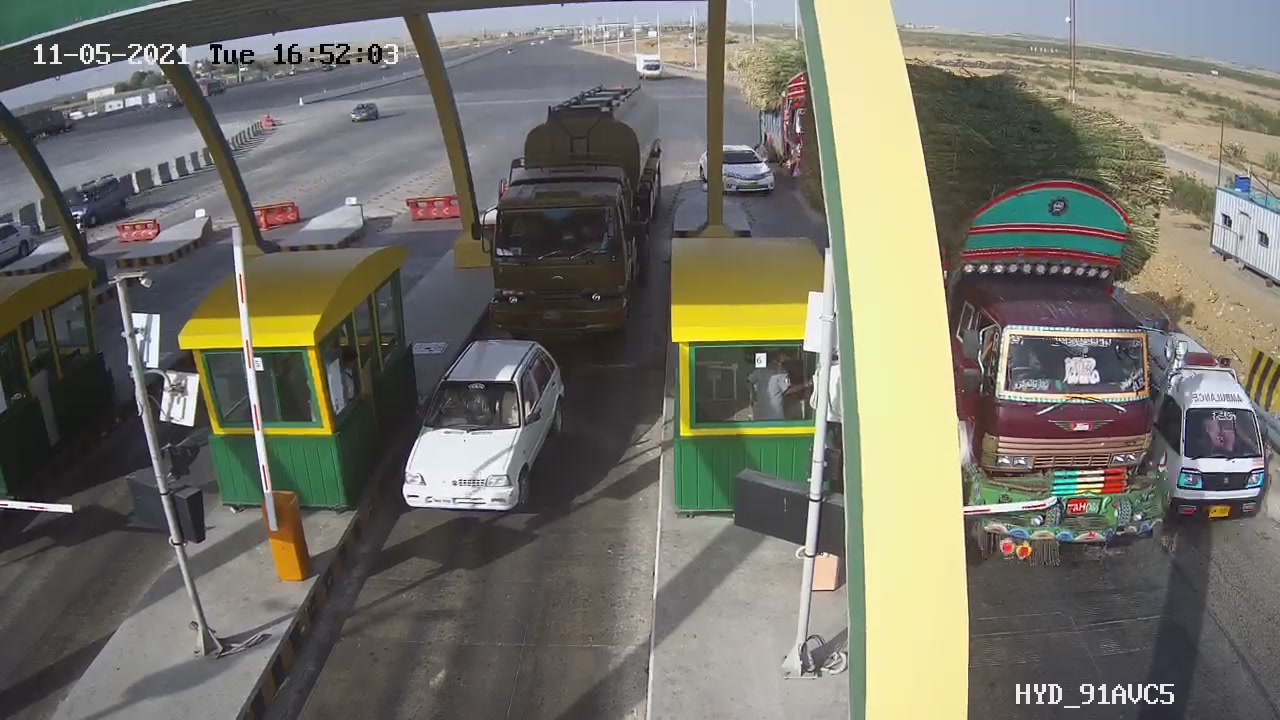F1: (381, 325, 592, 534)
F6: (482, 61, 684, 345)
